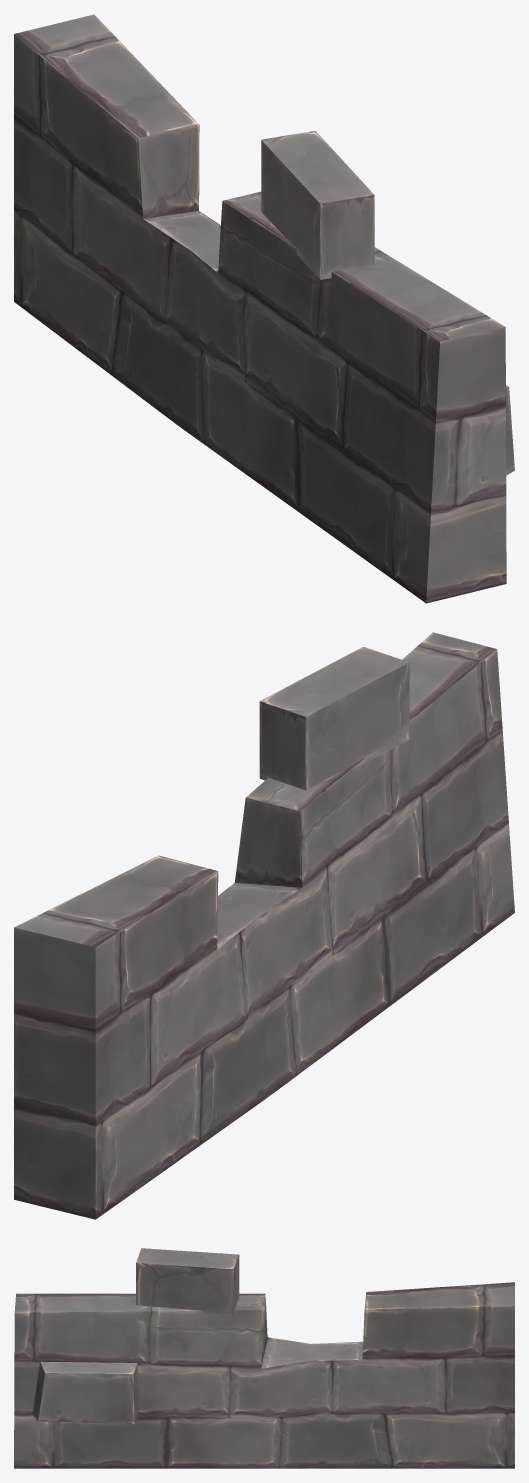
Rendered from SM_PROP_wall_stone_small_03.fbx.
3 views of the same model, one above another, from view 1: azimuth 30°, elevation 25°; view 2: azimuth 150°, elevation 25°; view 3: azimuth 270°, elevation 25° (orthographic). The views are drawn at different scales.
Visible parts, largest first — view 1: SM_PROP_wall_stone_small_03; view 2: SM_PROP_wall_stone_small_03; view 3: SM_PROP_wall_stone_small_03.
Boxes of the visible parts, x1=… form: SM_PROP_wall_stone_small_03: x1=14, y1=14, x2=514, y2=603; SM_PROP_wall_stone_small_03: x1=14, y1=632, x2=514, y2=1219; SM_PROP_wall_stone_small_03: x1=14, y1=1248, x2=514, y2=1468.
Bounding box in the file's own units: 46.8 × 129 × 297.
